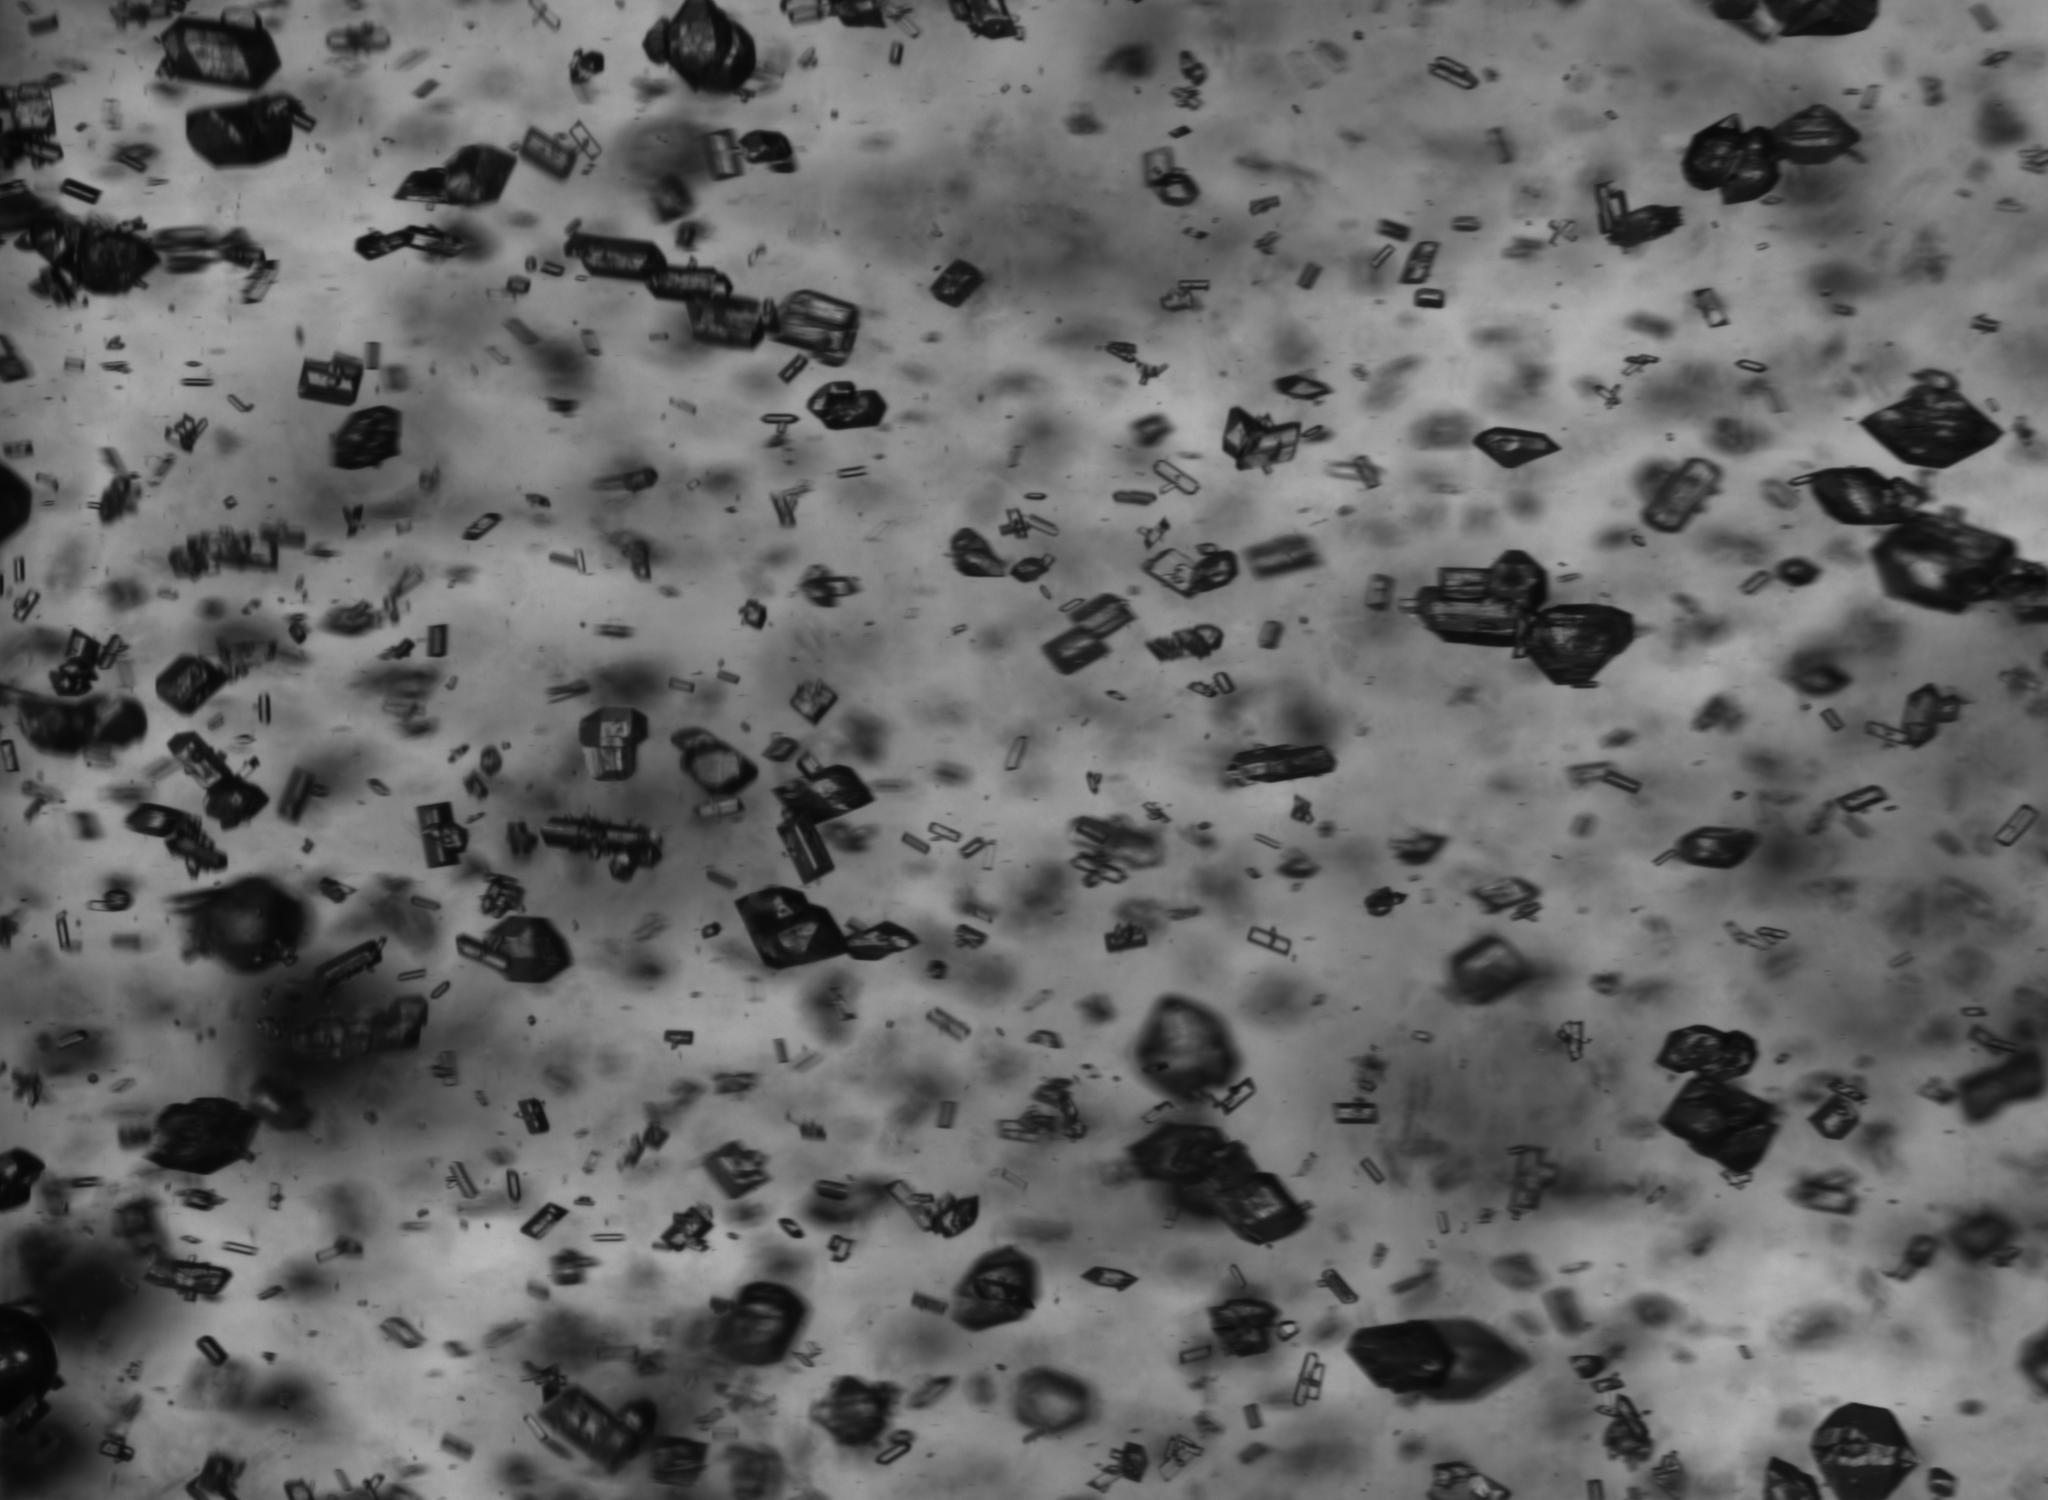crystal: (1129, 1121, 1305, 1244), (0, 189, 159, 302), (1860, 369, 2002, 469), (1410, 552, 1547, 647), (564, 231, 733, 302), (1660, 1074, 1778, 1176), (774, 764, 873, 883), (1811, 1403, 1919, 1500), (1514, 603, 1636, 687), (644, 0, 755, 92), (539, 1387, 657, 1473), (169, 733, 269, 829), (736, 886, 846, 969), (159, 16, 280, 91), (1348, 1320, 1461, 1398), (1682, 115, 1779, 204), (146, 1098, 259, 1174), (186, 95, 304, 167), (537, 816, 663, 883), (711, 1280, 808, 1366), (456, 915, 571, 983), (165, 523, 305, 579), (1041, 593, 1135, 674), (394, 145, 517, 207), (1798, 466, 1927, 525), (126, 802, 226, 876), (949, 1247, 1037, 1330), (1223, 407, 1328, 472), (774, 290, 860, 366), (1865, 684, 1965, 749), (673, 727, 757, 800), (813, 1376, 898, 1448), (0, 75, 62, 173), (1593, 183, 1682, 250), (1643, 458, 1720, 533), (1768, 103, 1860, 165), (886, 1180, 979, 1239), (49, 627, 127, 697), (1658, 1024, 1759, 1078), (1145, 544, 1239, 598), (580, 706, 647, 781), (687, 293, 776, 348), (1207, 1295, 1286, 1357), (156, 655, 234, 714), (1223, 746, 1336, 786), (331, 406, 401, 469), (355, 224, 475, 261), (310, 938, 385, 996), (361, 996, 428, 1058), (1660, 827, 1759, 869), (145, 1253, 232, 1300), (1506, 1145, 1558, 1218), (701, 1142, 770, 1198), (808, 382, 887, 429), (1601, 1395, 1654, 1467), (517, 126, 577, 185), (1474, 428, 1560, 469), (417, 802, 469, 869), (297, 355, 366, 406), (1142, 148, 1200, 207), (1426, 1460, 1511, 1500), (1088, 1441, 1151, 1494), (1809, 1078, 1862, 1139), (1035, 1077, 1086, 1139), (649, 1435, 708, 1486), (1146, 624, 1224, 662), (844, 921, 919, 961), (652, 1206, 714, 1252), (948, 0, 1019, 40), (0, 1148, 45, 1212), (949, 528, 1007, 577), (278, 768, 329, 821), (215, 636, 277, 679), (798, 565, 860, 608), (930, 259, 986, 307), (1073, 816, 1154, 848), (739, 130, 797, 173), (1469, 876, 1536, 913), (94, 472, 142, 523), (1156, 1433, 1205, 1481), (1992, 803, 2043, 848), (789, 679, 838, 724), (704, 129, 746, 181), (1172, 51, 1208, 110), (479, 872, 525, 918), (1569, 1354, 1623, 1392), (1072, 853, 1129, 888), (324, 600, 378, 636), (549, 1247, 598, 1287), (1825, 784, 1889, 814), (1291, 1352, 1326, 1406), (1151, 458, 1200, 496), (520, 1203, 569, 1241), (1399, 240, 1441, 285), (999, 507, 1056, 539), (1208, 1077, 1256, 1115), (1428, 56, 1479, 91), (1391, 834, 1447, 865), (1159, 278, 1212, 312), (1329, 455, 1382, 488), (827, 0, 887, 29), (164, 414, 207, 453), (999, 1110, 1049, 1144), (523, 1362, 566, 1400), (1690, 288, 1730, 328), (1245, 926, 1294, 958), (378, 1315, 425, 1349), (924, 1007, 970, 1040), (771, 487, 808, 528), (1275, 374, 1331, 401), (1104, 921, 1150, 953), (1318, 1268, 1358, 1304), (1553, 1021, 1590, 1061), (568, 119, 601, 162), (1007, 555, 1056, 584), (245, 262, 278, 304), (1363, 886, 1407, 916), (315, 1236, 364, 1263), (1081, 1266, 1137, 1290), (1188, 671, 1235, 698), (445, 1161, 480, 1198), (506, 821, 539, 859), (1736, 926, 1789, 950), (1332, 1098, 1379, 1125), (569, 48, 604, 83), (99, 1430, 135, 1463), (1364, 574, 1396, 612), (762, 733, 801, 764), (1601, 767, 1643, 795), (695, 797, 744, 821), (1138, 517, 1172, 552), (59, 178, 100, 205), (196, 1335, 231, 1366), (463, 512, 501, 541), (176, 1188, 224, 1210), (518, 1099, 549, 1134), (315, 875, 351, 903), (1371, 245, 1396, 285), (738, 598, 768, 630), (760, 412, 800, 436), (1585, 382, 1620, 409), (1003, 735, 1029, 771), (779, 353, 809, 383), (1738, 568, 1771, 595), (631, 539, 652, 582), (547, 550, 587, 573), (959, 835, 995, 859), (13, 590, 40, 622), (504, 1166, 525, 1207), (814, 1179, 852, 1201), (377, 638, 415, 660), (1258, 619, 1285, 649), (954, 924, 987, 948), (1142, 1101, 1175, 1125), (1113, 488, 1158, 506), (1358, 1156, 1387, 1183), (523, 1413, 549, 1443), (479, 744, 502, 776), (876, 1441, 908, 1465), (0, 736, 21, 773), (927, 821, 960, 843), (1105, 340, 1138, 363), (54, 911, 73, 950), (827, 1233, 852, 1261), (428, 622, 448, 657), (1178, 1344, 1213, 1365), (103, 888, 134, 911), (464, 768, 488, 799), (283, 1478, 315, 1500), (1623, 353, 1660, 372), (1296, 262, 1321, 290), (1290, 795, 1313, 824), (900, 832, 930, 854), (1549, 220, 1579, 242), (1414, 288, 1445, 309), (288, 612, 308, 644), (219, 1241, 258, 1257), (778, 1217, 805, 1239), (579, 329, 601, 356), (226, 393, 254, 414), (256, 692, 273, 725), (1250, 196, 1280, 215), (410, 894, 440, 913), (663, 1029, 693, 1048), (506, 275, 531, 297), (1243, 1403, 1264, 1430), (937, 1101, 956, 1129), (1972, 313, 2000, 332), (1735, 358, 1768, 374), (835, 463, 868, 479), (428, 980, 452, 1002), (1452, 215, 1482, 232), (668, 678, 696, 695), (1251, 834, 1282, 849), (364, 340, 380, 369), (11, 555, 27, 584), (1084, 770, 1104, 794), (541, 259, 564, 277), (367, 778, 391, 795), (1183, 226, 1212, 240), (590, 1231, 626, 1242), (396, 969, 428, 981), (889, 41, 905, 65), (180, 377, 213, 388), (716, 670, 741, 684), (1169, 126, 1191, 138), (523, 256, 537, 274), (574, 1195, 596, 1206), (1022, 492, 1048, 501), (301, 838, 315, 854)
